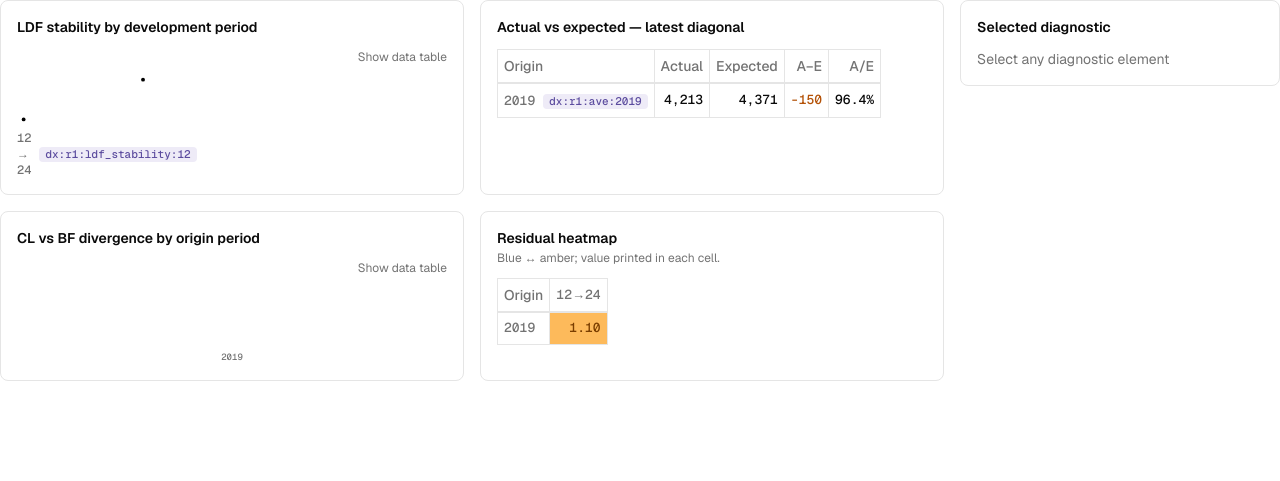
Scenario: DiagnosticContextRail + selection (Story 4.6) › "cited by N report claims" backlink › a diagnostic no reason cites → honest 'Cited by 0 report claims.'
The image size is (1280, 481).
# ldf_stability:12 is cited by no reason.
Click the button "dx:r1:ldf_stability:12". click: point(118, 154)
box: [39, 147, 197, 162]
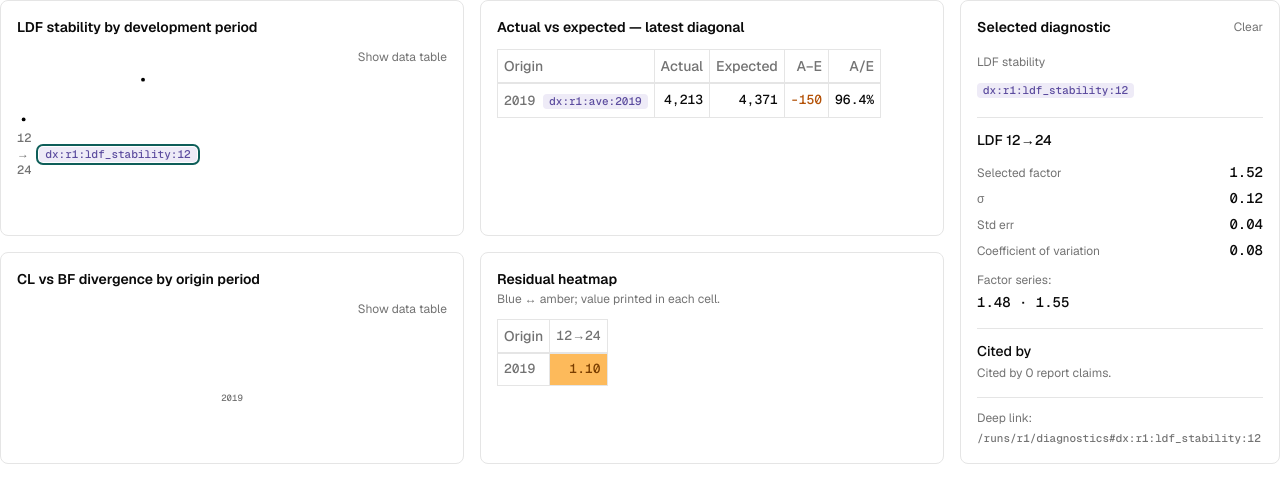
Expected: the text "Cited by 0 report claims." is shown, [977, 365, 1111, 381]
